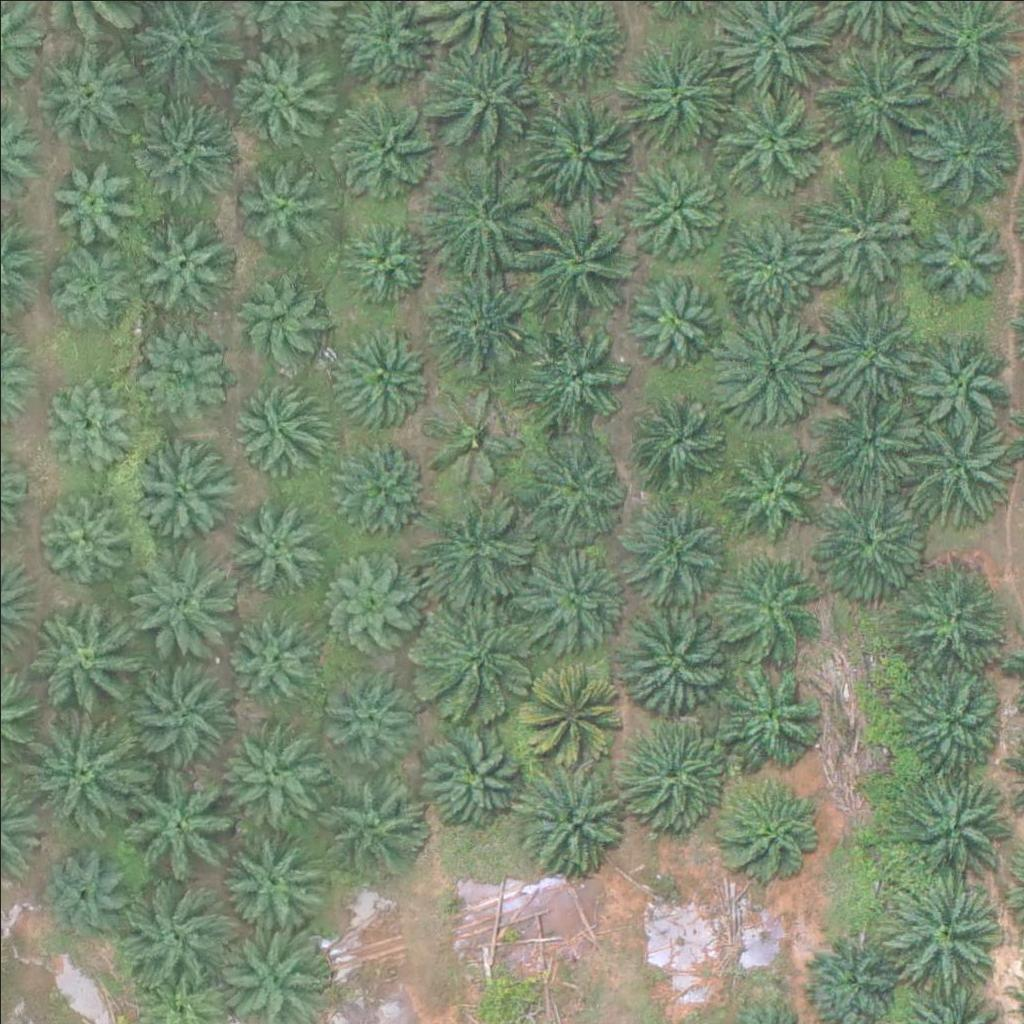Kelapa_Sawit: (523, 95, 636, 209), (716, 311, 829, 425), (807, 295, 920, 409), (890, 668, 1003, 782), (899, 763, 1012, 877), (124, 656, 237, 769), (130, 87, 243, 200), (429, 42, 542, 155), (426, 271, 539, 384), (422, 491, 535, 604), (418, 603, 531, 716), (524, 202, 637, 315), (615, 596, 728, 709), (621, 38, 734, 151), (713, 654, 826, 767), (711, 77, 824, 190), (802, 178, 915, 291), (27, 709, 140, 822), (121, 760, 234, 873), (419, 715, 532, 828), (126, 538, 238, 652), (427, 156, 539, 270), (711, 548, 823, 662), (910, 94, 1022, 208), (713, 776, 825, 890), (32, 600, 144, 713), (35, 35, 147, 148), (519, 323, 631, 436), (810, 474, 922, 587), (821, 45, 933, 158), (899, 566, 1011, 679), (899, 418, 1011, 531), (116, 877, 228, 990), (214, 727, 326, 840), (320, 764, 432, 877), (517, 758, 629, 871), (627, 714, 739, 827), (885, 873, 997, 986), (31, 490, 131, 591), (131, 435, 231, 536), (127, 206, 227, 307), (226, 493, 326, 594), (234, 373, 334, 474), (229, 273, 329, 374), (233, 41, 333, 142), (328, 438, 428, 539), (331, 322, 431, 423), (332, 96, 432, 197), (530, 549, 630, 650), (528, 437, 628, 538), (622, 492, 722, 593), (627, 152, 727, 253), (721, 437, 821, 538), (910, 202, 1010, 303), (909, 332, 1009, 433), (221, 825, 321, 926), (135, 324, 235, 424), (325, 544, 425, 644), (419, 388, 519, 488), (524, 656, 624, 756), (630, 379, 730, 479), (719, 206, 819, 306), (819, 390, 919, 490), (629, 270, 717, 359), (341, 210, 429, 298), (34, 852, 122, 940), (46, 382, 133, 470), (46, 241, 133, 329), (49, 153, 136, 241), (227, 611, 314, 699), (238, 158, 325, 246), (325, 666, 412, 754)
